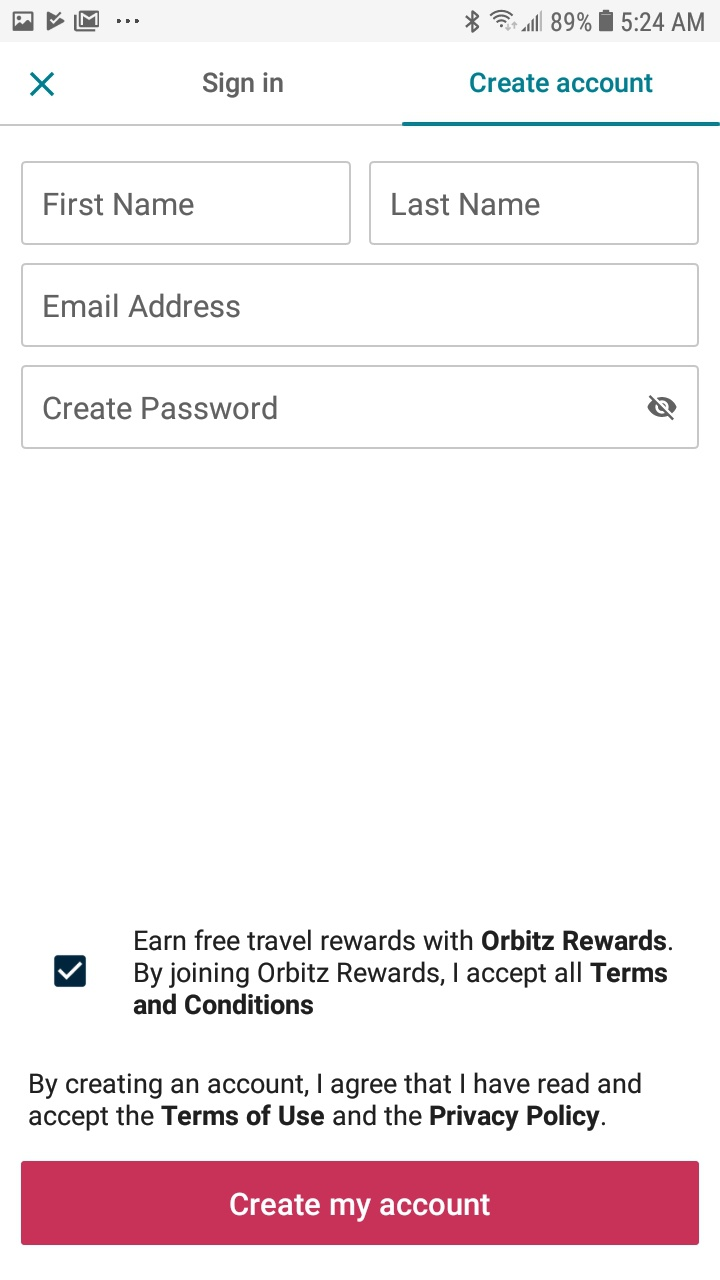CheckedTextView: (55, 928, 674, 1017)
EditText: (21, 264, 699, 348), (22, 366, 699, 450), (369, 161, 699, 246), (22, 162, 353, 246)
Icon: (647, 396, 677, 422), (30, 72, 55, 97)
Text: (134, 929, 673, 1016), (29, 1072, 642, 1132), (44, 396, 278, 421), (45, 294, 241, 319), (470, 72, 654, 94), (45, 193, 195, 217), (392, 193, 541, 216), (203, 72, 284, 100)
TextButton: (22, 1160, 700, 1245)
UpperTaskBar: (1, 1, 720, 43)
